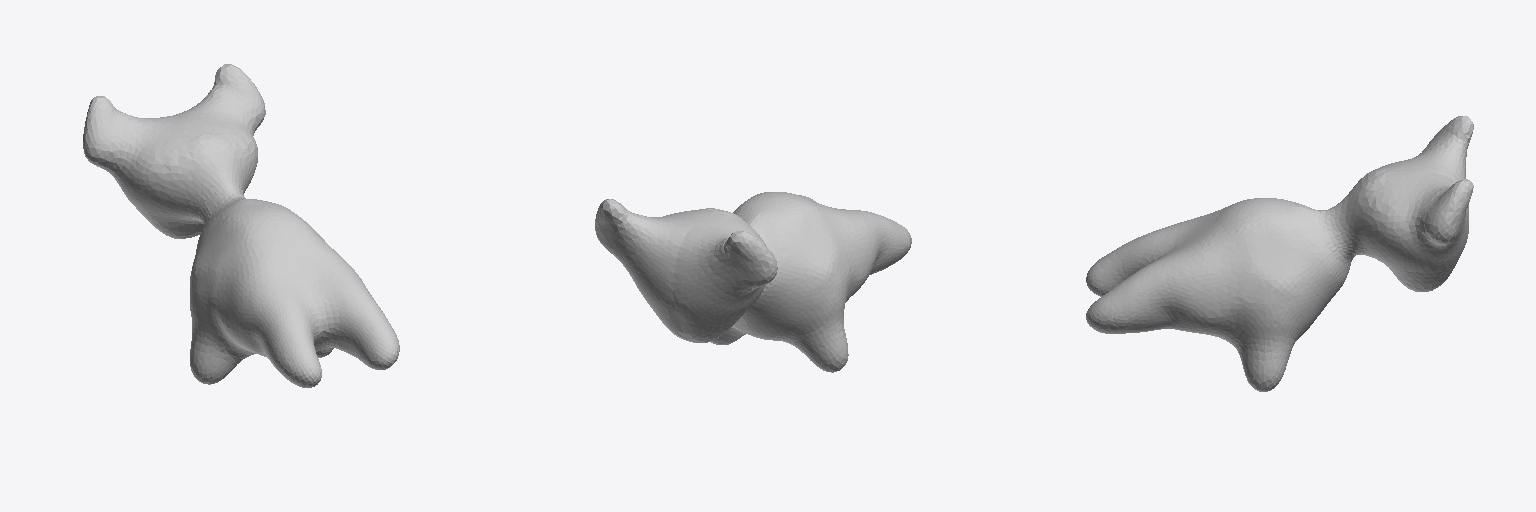
The model's file is Cownico.obj.
3 renders of one model, left to right at view 1: azimuth 30°, elevation 25°; view 2: azimuth 150°, elevation 25°; view 3: azimuth 270°, elevation 25°, orthographic.
Size of the model in its own units: 0.8344 by 0.9606 by 1.57.